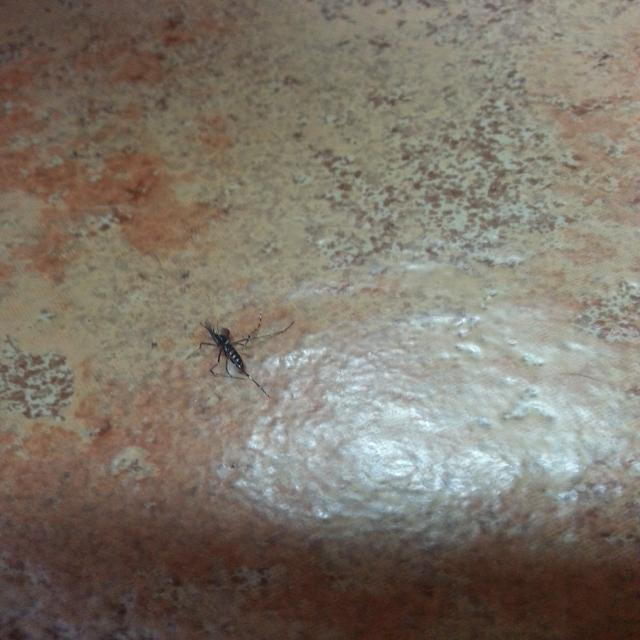albopictus: (182, 304, 295, 400)
